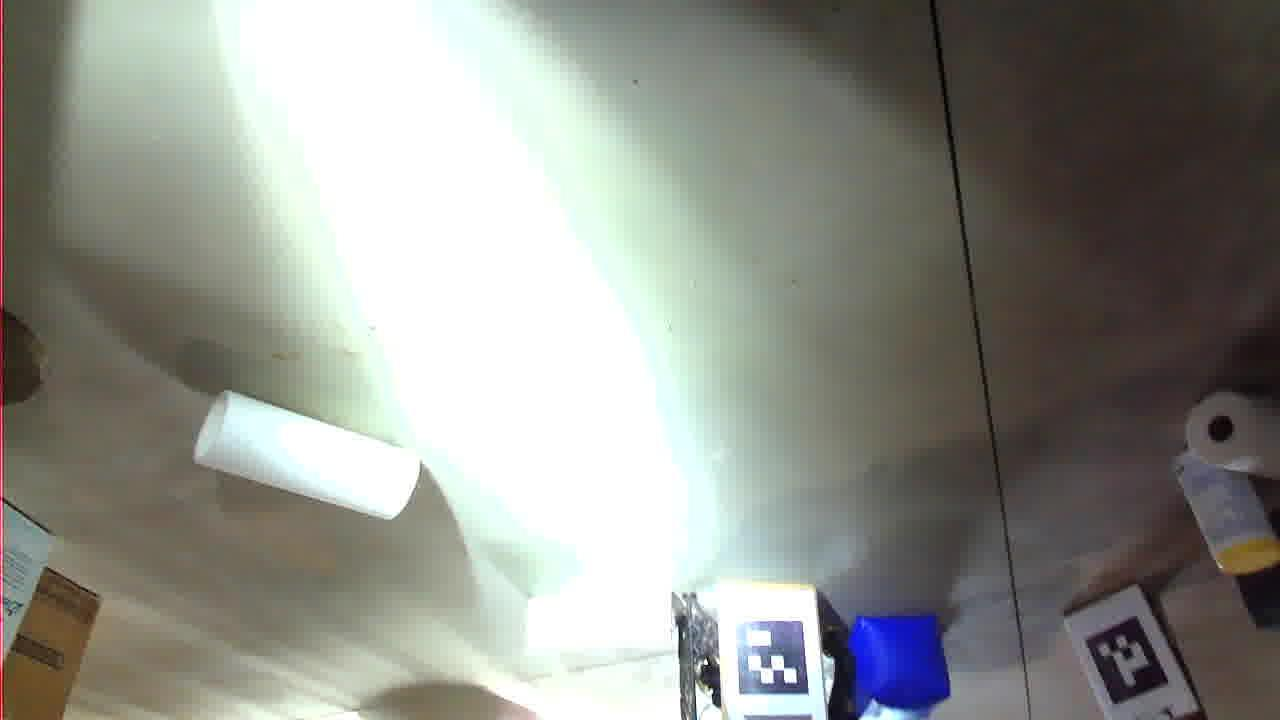coral: (860, 200, 1087, 331), (607, 69, 756, 122)
